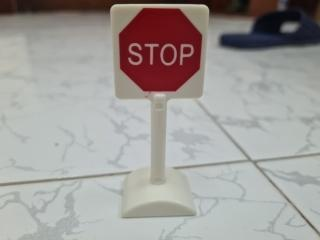stop: (107, 0, 214, 112)
